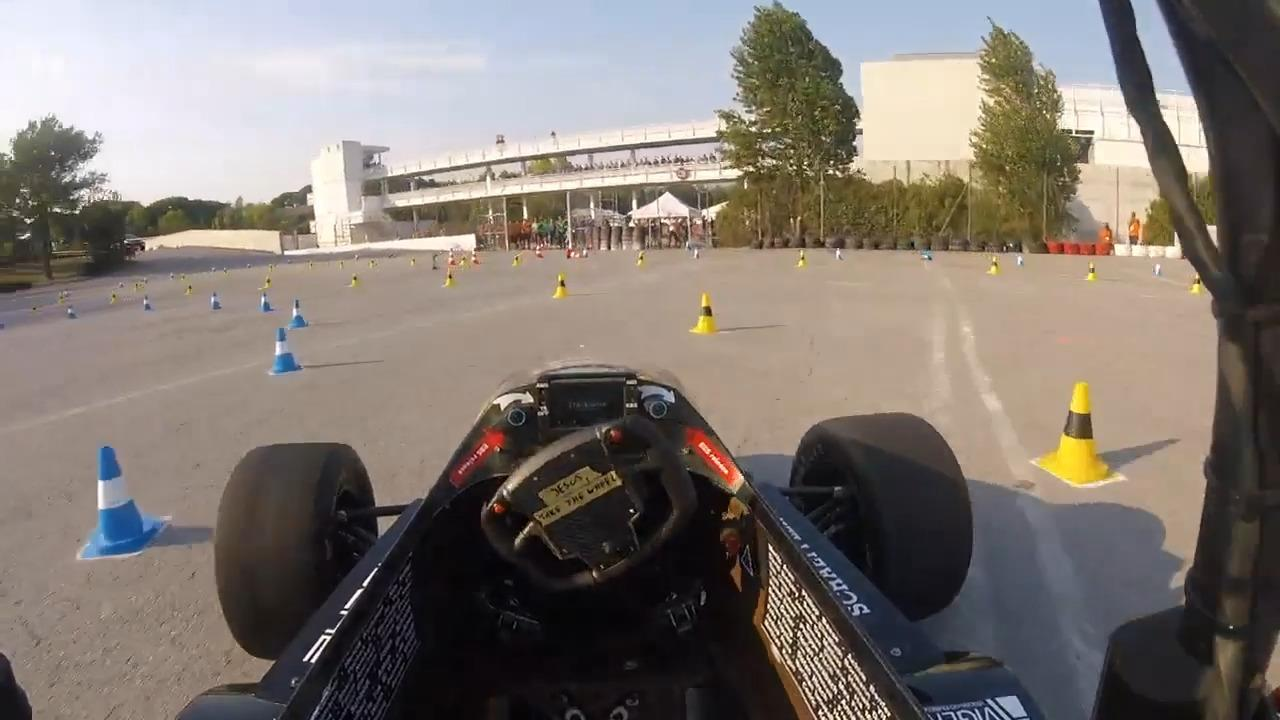blue_cone: (67, 441, 169, 563), (266, 326, 302, 376), (288, 298, 308, 329), (209, 289, 224, 312), (64, 302, 78, 321), (259, 292, 271, 313), (1151, 259, 1163, 279), (141, 294, 154, 312), (1015, 253, 1026, 271), (835, 248, 843, 261), (63, 287, 71, 298)
large_orange_cone: (471, 246, 483, 268), (566, 248, 582, 261), (448, 245, 457, 267), (536, 242, 545, 259)
yellow_cone: (1035, 370, 1122, 497), (687, 290, 722, 338), (552, 270, 570, 302), (1083, 259, 1099, 282), (1189, 273, 1204, 296), (443, 267, 457, 289), (989, 255, 1002, 276), (261, 273, 275, 291), (636, 251, 650, 268), (795, 249, 808, 267), (108, 290, 120, 307), (349, 272, 361, 288), (460, 254, 468, 271), (185, 282, 194, 297), (409, 255, 418, 268), (369, 258, 377, 271), (58, 292, 64, 308), (512, 255, 519, 268), (133, 283, 141, 293), (339, 260, 345, 271)
